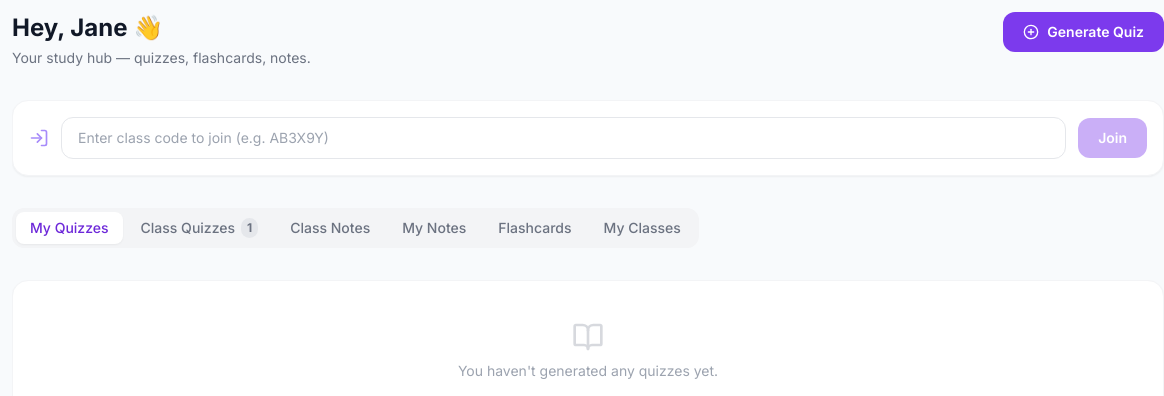
it: StudentDashboard - FEAT-008 Quiz Sharing › Quizzes from non-joined classes are absent › does not display quizzes from classes student has not joined
The width and height of the screenshot is (1164, 396).
Click the button "Class Quizzes 1": (199, 228) [127,212,272,244]
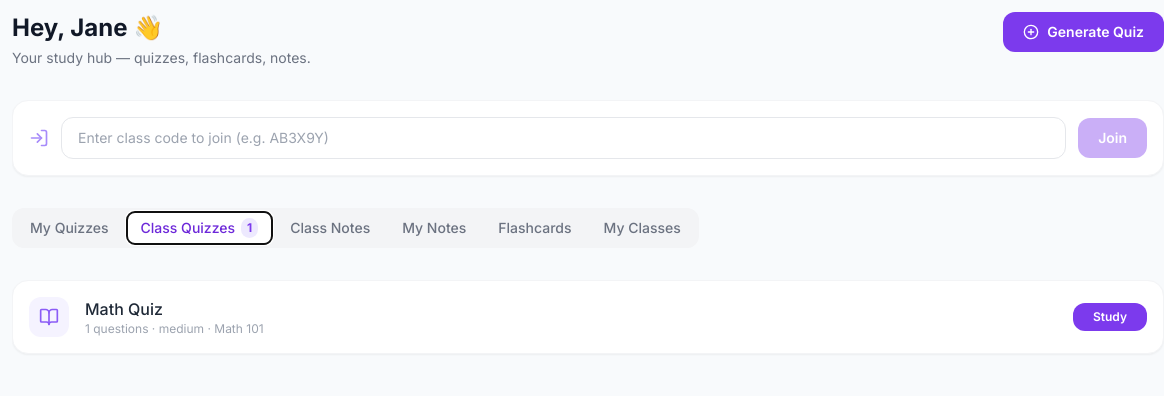
Result: the text "Math Quiz" is shown at [85,299,163,319]
Result: the text "1 questions · medium · Math 101" is shown at [85,321,264,336]
Result: the number of links "Study" is 1 at [1073,303,1147,331]
